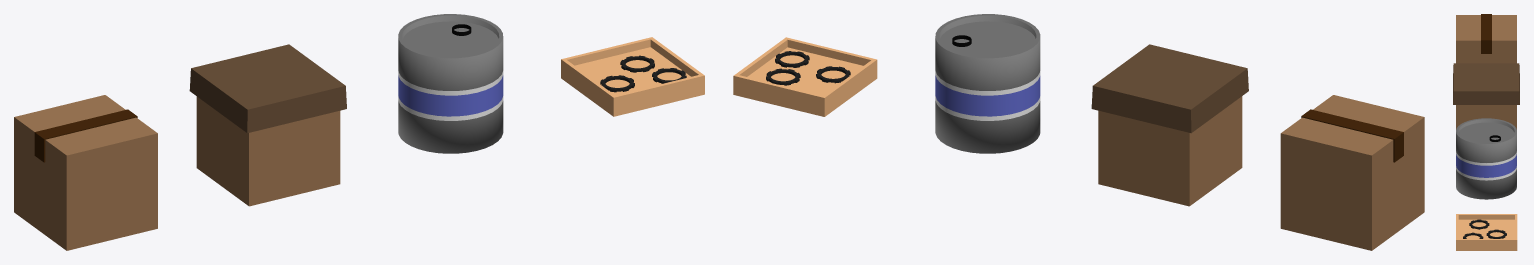
Rendered from Carryables1.fbx.
3 renders of one model, left to right at view 1: azimuth 30°, elevation 25°; view 2: azimuth 150°, elevation 25°; view 3: azimuth 270°, elevation 25°, orthographic. The views are drawn at different scales.
Visible parts, largest first — view 1: Box, Cardboard, Pot, GearsInBox; view 2: Box, Cardboard, Pot, GearsInBox; view 3: Pot, Box, Cardboard, GearsInBox.
Part boxes in pixels (x1=…): Box: x1=189, y1=44, x2=346, y2=206; Cardboard: x1=14, y1=95, x2=157, y2=250; Pot: x1=398, y1=14, x2=503, y2=153; GearsInBox: x1=561, y1=37, x2=704, y2=116; Box: x1=1091, y1=44, x2=1248, y2=206; Cardboard: x1=1280, y1=95, x2=1424, y2=250; Pot: x1=935, y1=14, x2=1040, y2=153; GearsInBox: x1=733, y1=37, x2=877, y2=116; Pot: x1=1456, y1=118, x2=1516, y2=199; Box: x1=1453, y1=63, x2=1519, y2=129; Cardboard: x1=1456, y1=14, x2=1516, y2=63; GearsInBox: x1=1456, y1=214, x2=1517, y2=250.
Bounding box in the file's own units: 351 × 51.92 × 54.71.
